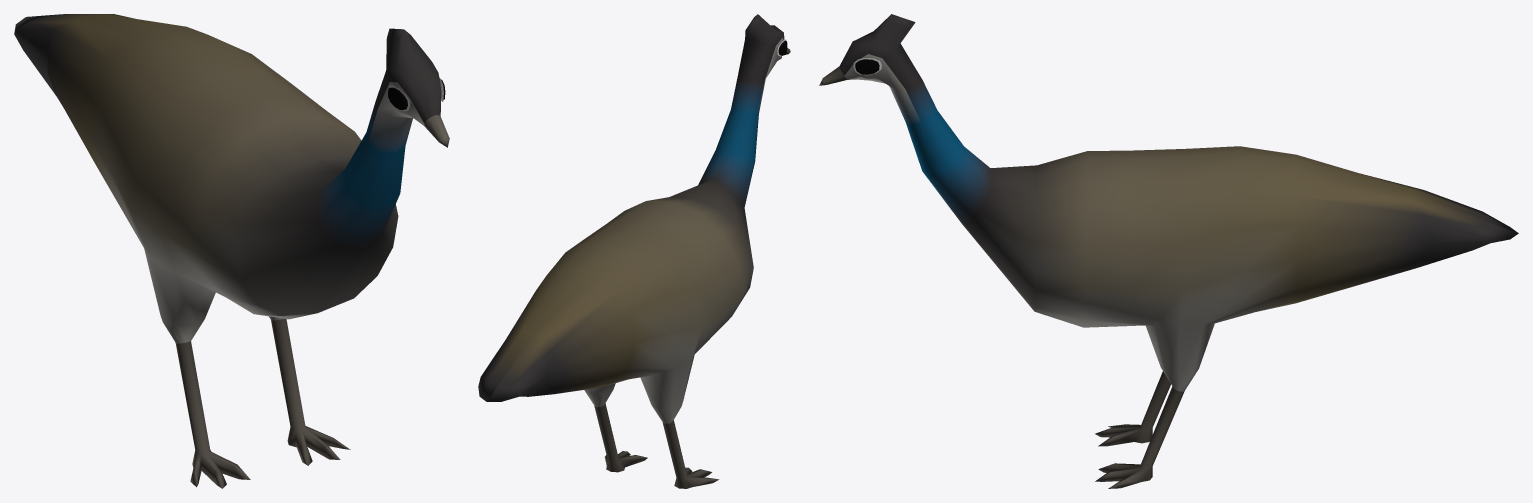
The model's file is animals-birdsupright-peacock_v2.fbx.
3 renders of one model, left to right at view 1: azimuth 30°, elevation 25°; view 2: azimuth 150°, elevation 25°; view 3: azimuth 270°, elevation 25°, orthographic. The views are drawn at different scales.
Visible parts, largest first — view 1: Peacock_v2; view 2: Peacock_v2; view 3: Peacock_v2.
Part boxes in pixels (x1,y1,x2,y2): Peacock_v2: (14, 14, 449, 488); Peacock_v2: (478, 14, 790, 488); Peacock_v2: (819, 14, 1518, 488).
Size of the model in its own units: 0.3609 by 0.9382 by 1.34.
